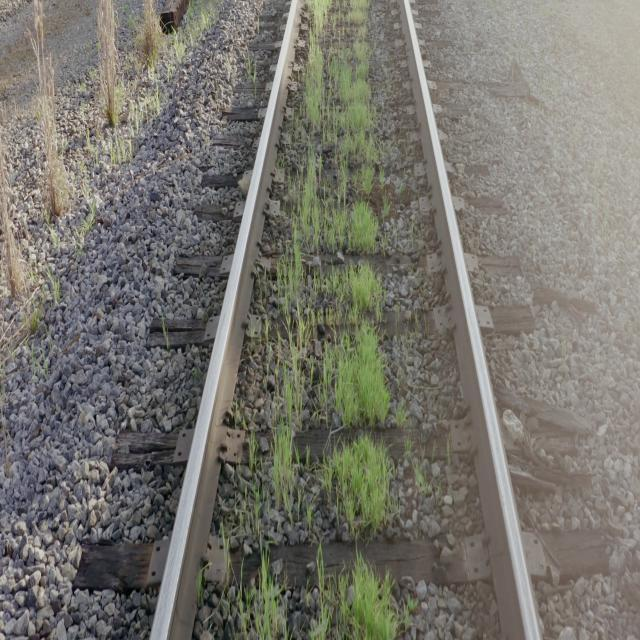Plant: (272, 0, 379, 540), (316, 264, 390, 427), (311, 556, 400, 640), (320, 433, 391, 538), (352, 556, 398, 640), (241, 569, 281, 638)
